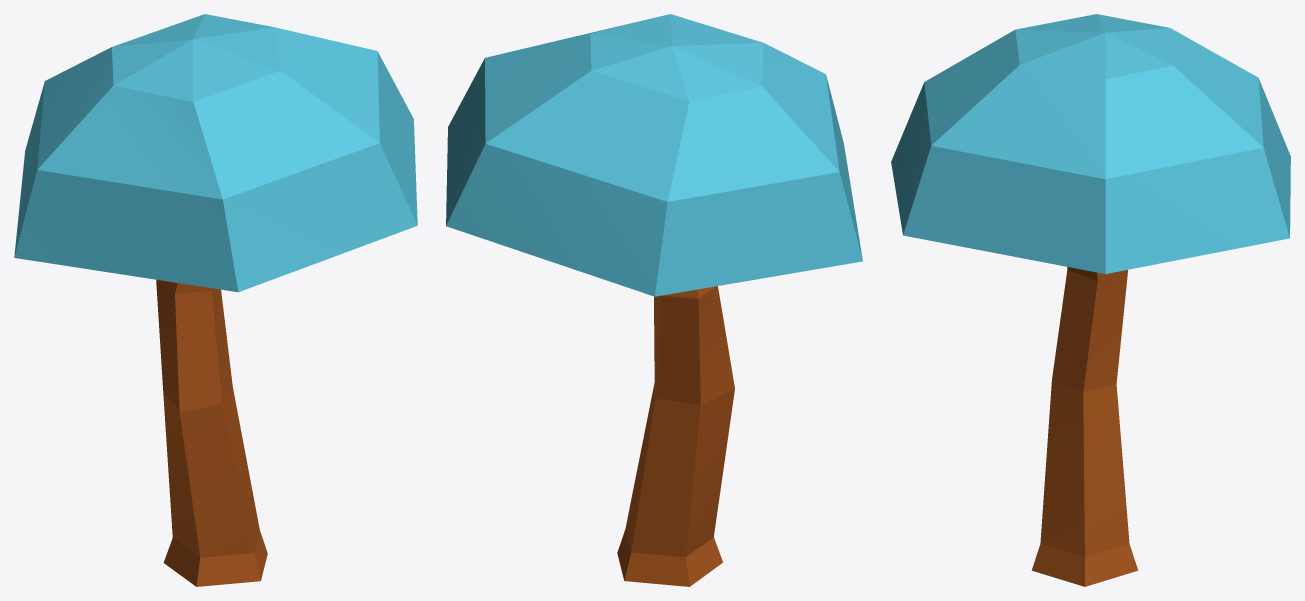
The model's file is Mushroom_d_a_01.fbx.
The picture shows the model from 3 angles, left to right: view 1: azimuth 30°, elevation 25°; view 2: azimuth 150°, elevation 25°; view 3: azimuth 270°, elevation 25°; orthographic projection.
Parts seen in each view (by area): view 1: Mushroom_d_a_01_LOD0; view 2: Mushroom_d_a_01_LOD0; view 3: Mushroom_d_a_01_LOD0.
Boxes of the visible parts, <box> form: Mushroom_d_a_01_LOD0: <box>14,14,417,586</box>; Mushroom_d_a_01_LOD0: <box>446,14,862,586</box>; Mushroom_d_a_01_LOD0: <box>891,14,1290,586</box>.
Size of what is drawn, in the model's own units: 9.99 by 12.34 by 8.55.
